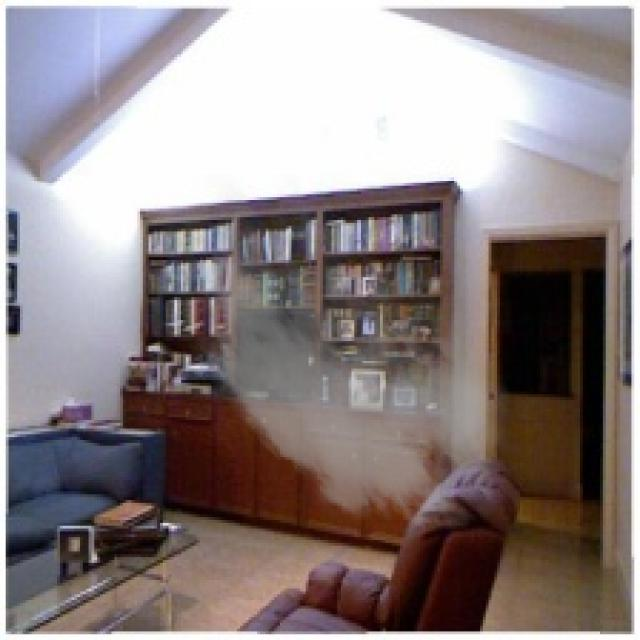smoke: (163, 174, 528, 543)
